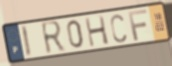0: (65, 19, 86, 51)
C: (109, 13, 128, 45)
F: (127, 8, 149, 42)
H: (84, 14, 111, 49)
I: (20, 23, 34, 58)
R: (39, 19, 68, 57)
